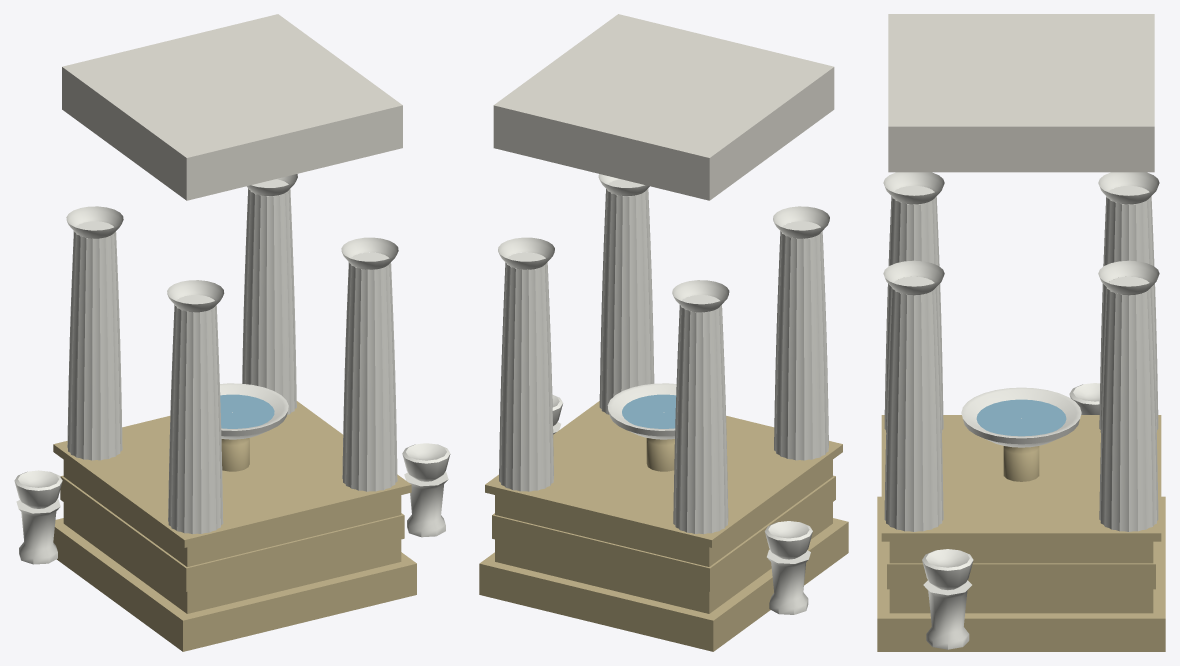
Rendered from kolonnada_bulvar.lod.glb.
3 renders of one model, left to right at view 1: azimuth 30°, elevation 25°; view 2: azimuth 150°, elevation 25°; view 3: azimuth 270°, elevation 25°, orthographic. The views are drawn at different scales.
Visible parts, largest first — view 1: kolonnada_bulvar_trim_s, kolonnada_bulvar_stone, kolonnada_bulvar_wall, kolonnada_bulvar_glass; view 2: kolonnada_bulvar_trim_s, kolonnada_bulvar_stone, kolonnada_bulvar_wall, kolonnada_bulvar_glass; view 3: kolonnada_bulvar_stone, kolonnada_bulvar_trim_s, kolonnada_bulvar_wall, kolonnada_bulvar_glass.
Boxes of the visible parts, x1,y1,x2,y2 form: kolonnada_bulvar_trim_s: (14,174,450,564); kolonnada_bulvar_stone: (53,401,416,651); kolonnada_bulvar_wall: (62,14,402,200); kolonnada_bulvar_glass: (220,394,274,428); kolonnada_bulvar_trim_s: (498,174,829,614); kolonnada_bulvar_stone: (479,401,848,651); kolonnada_bulvar_wall: (493,14,834,200); kolonnada_bulvar_glass: (622,394,676,428); kolonnada_bulvar_stone: (877,415,1165,651); kolonnada_bulvar_trim_s: (883,172,1159,649); kolonnada_bulvar_wall: (888,14,1154,172); kolonnada_bulvar_glass: (976,399,1066,436).
Bounding box in the file's own units: 7.24 × 9.36 × 4.7.
